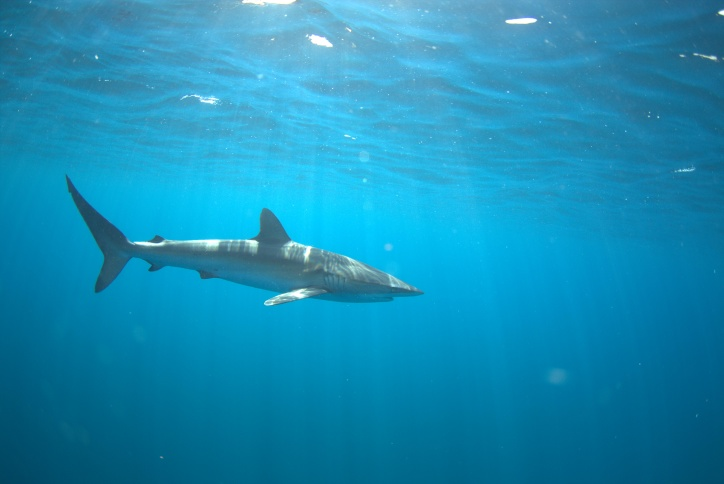Sedoso: (42, 169, 436, 323)
